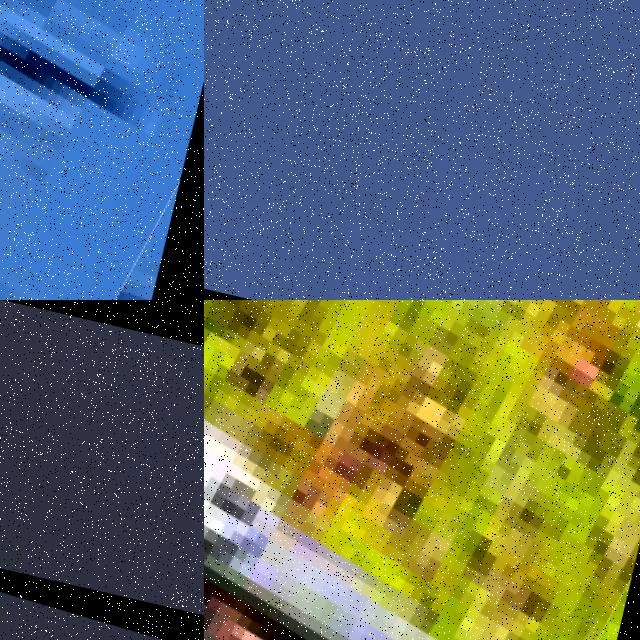0: (0, 0, 204, 300)
drone: (204, 300, 640, 640), (0, 481, 204, 640)
